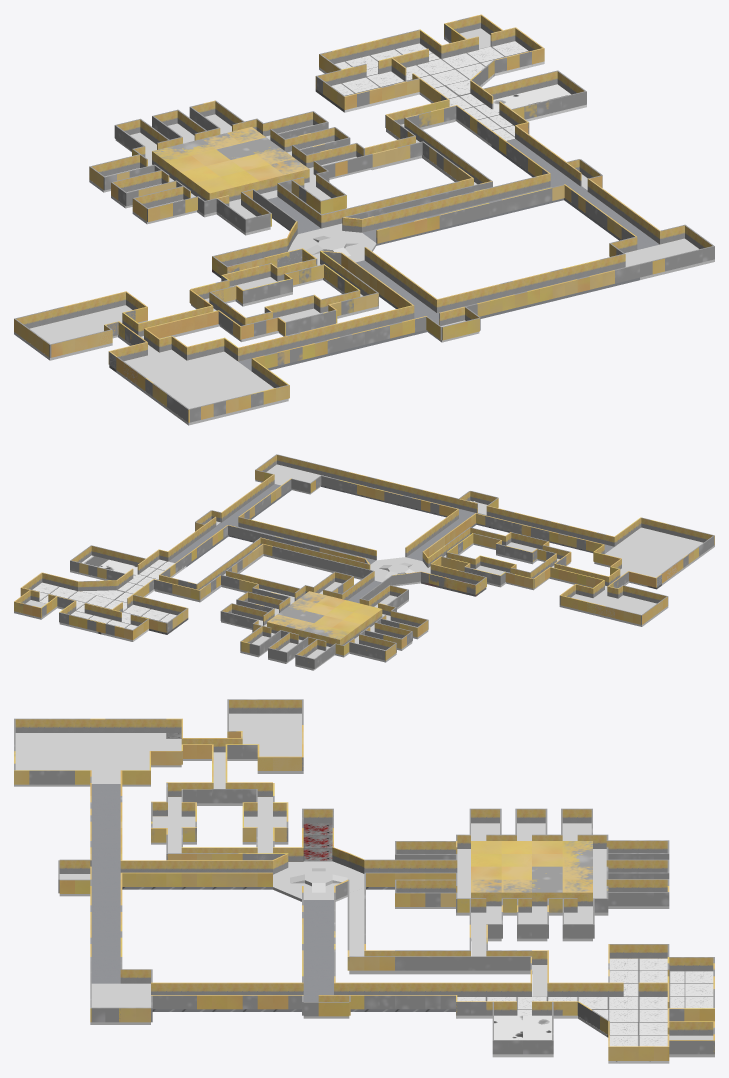
The model's file is Revised map blockoutV6.2.fbx.
3 views of the same model, one above another, from view 1: azimuth 30°, elevation 25°; view 2: azimuth 150°, elevation 25°; view 3: azimuth 270°, elevation 25° (orthographic). The views are drawn at different scales.
Visible parts, largest first — view 1: Living quarters walls, Office Walls, Pathway Down Walls, Office Floor, Walls.019, Living quarters Room.008, Walls.003, Pathway Down, Pathway Down.001, Pathway Down Walls.001, Pathway Down Walls.002, Walls (+9 smaller); view 2: Living quarters walls, Office Walls, Pathway Down Walls, Office Floor, Walls.019, Walls.003, Living quarters Room.008, Pathway Down, Pathway Down Walls.001, Pathway Down.001, Pathway Down Walls.002, Walls (+10 smaller); view 3: Living quarters walls, Office Walls, Office Floor, Walls.003, Pathway Down, Pathway Down Walls, Pathway Down.001, Living quarters Room.008, Living quarters Room.006, Pathway Up walls, Center Platform, Living quarters Room.005 (+9 smaller).
Boxes of the visible parts, x1,y1,x2,y2 form: Living quarters walls: (89,100,364,232); Office Walls: (315,14,544,144); Pathway Down Walls: (251,247,614,371); Office Floor: (315,41,544,146); Walls.019: (361,173,564,243); Living quarters Room.008: (152,139,259,201); Walls.003: (491,125,660,250); Pathway Down: (238,197,639,371); Pathway Down.001: (362,139,659,249); Pathway Down Walls.001: (237,305,412,361); Pathway Down Walls.002: (437,259,600,312); Walls: (600,225,714,283); Living quarters walls: (220,571,428,668); Office Walls: (14,549,188,639); Pathway Down Walls: (349,472,615,557); Office Floor: (32,559,188,641); Walls.019: (228,517,376,562); Walls.003: (168,474,291,565); Living quarters Room.008: (303,600,382,646); Pathway Down: (321,477,614,603); Pathway Down Walls.001: (476,513,604,553); Pathway Down.001: (169,484,375,566); Pathway Down Walls.002: (338,480,457,516); Walls: (256,454,349,489); Living quarters walls: (395,808,669,938); Office Walls: (456,944,714,1060); Office Floor: (456,958,713,1063); Walls.003: (151,982,455,1009); Pathway Down: (91,784,394,983); Pathway Down Walls: (90,770,272,956); Pathway Down.001: (152,900,455,1011); Living quarters Room.008: (471,841,592,866); Living quarters Room.006: (471,879,592,906); Pathway Up walls: (364,859,455,886); Center Platform: (273,861,364,901); Living quarters Room.005: (471,866,592,879).
Size of the model in its own units: 54002 by 1264 by 46002.
